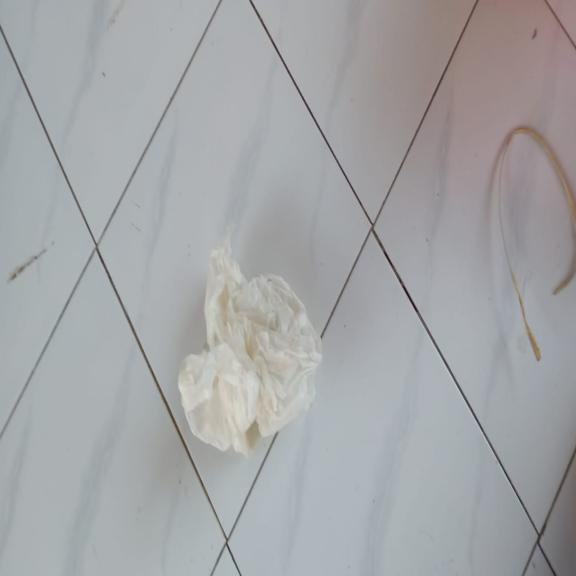Plastik: (177, 233, 324, 458)
